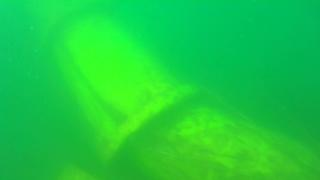pipe: (22, 1, 201, 176), (112, 97, 320, 180), (52, 166, 97, 180)
